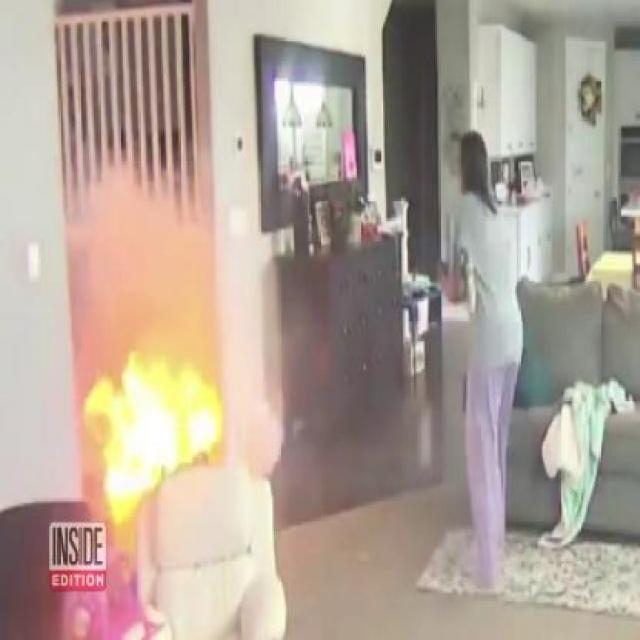fire: (86, 341, 240, 492)
smoke: (68, 138, 260, 316)
